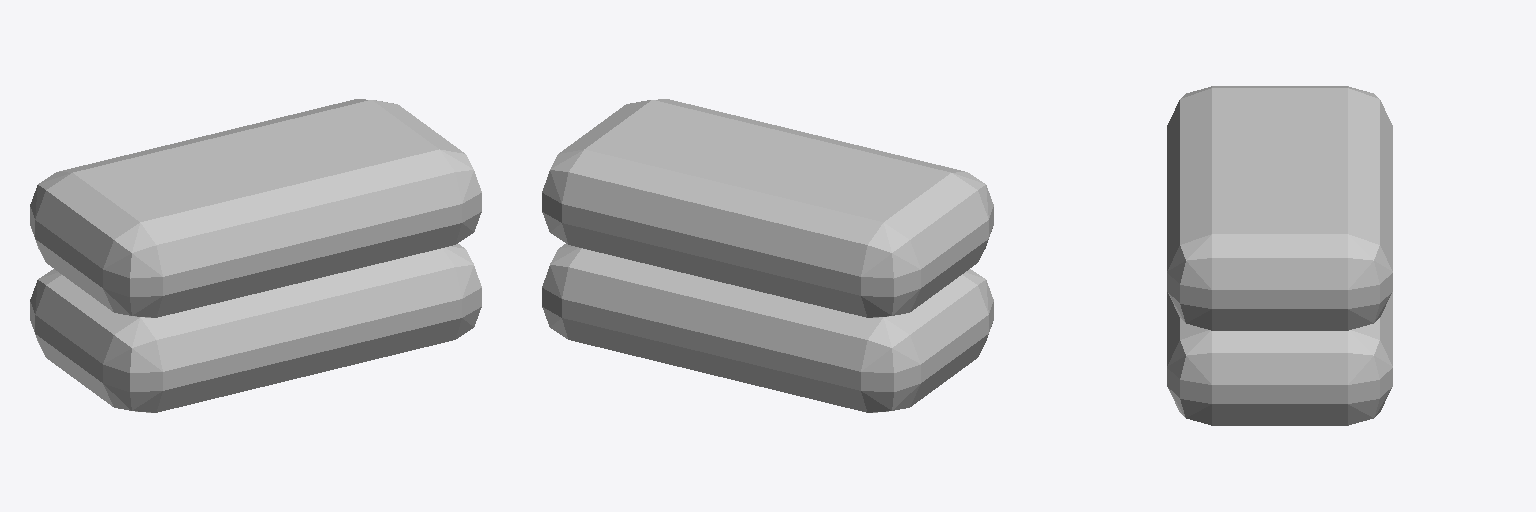
The model's file is barrier_2x1x1_green.obj.
The picture shows the model from 3 angles: view 1: azimuth 30°, elevation 25°; view 2: azimuth 150°, elevation 25°; view 3: azimuth 270°, elevation 25°; orthographic projection.
Visible parts, largest first — view 1: barrier_2x1x1_green; view 2: barrier_2x1x1_green; view 3: barrier_2x1x1_green.
Part boxes in pixels (bbox=[...]): barrier_2x1x1_green: bbox=[30, 99, 481, 412]; barrier_2x1x1_green: bbox=[542, 99, 993, 412]; barrier_2x1x1_green: bbox=[1167, 86, 1392, 425].
Bounding box in the file's own units: 2.06 × 1 × 1.08.